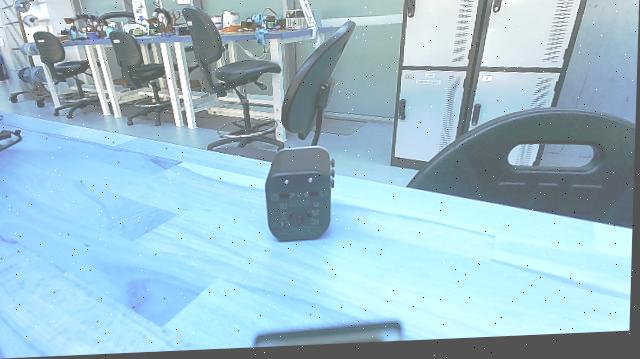adapter: (263, 147, 339, 248)
